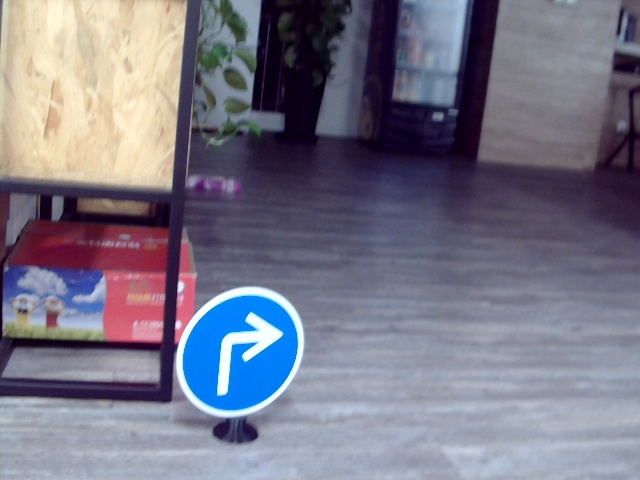turn_right: (209, 319, 281, 392)
